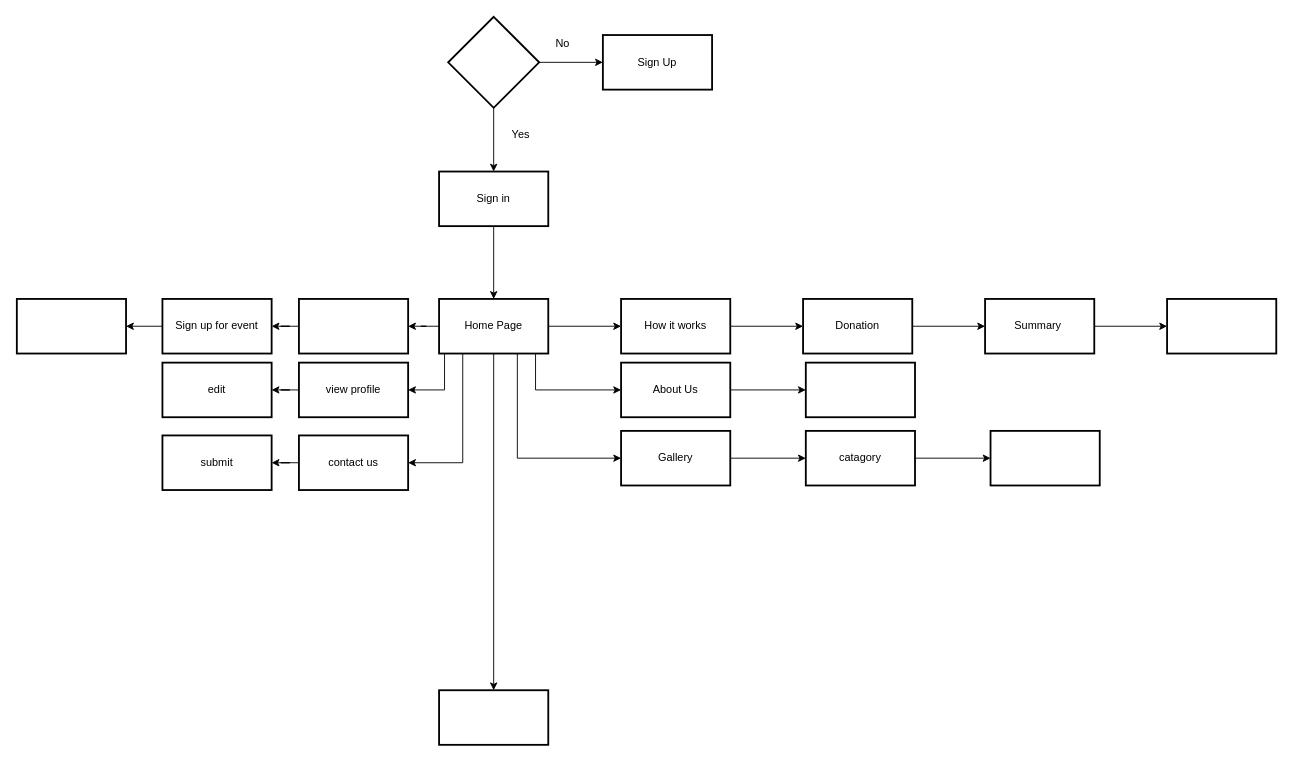
The diagram is 1292 pixels wide and 761 high, and some of its shapes have lost their labels. The box of each missing label's shape, as (x1, y1, x2, y2) in pixels:
Conclusion for event page: (15, 298, 126, 354)
Event: (298, 298, 409, 354)
Ex. picture by catagory: (989, 430, 1100, 486)
history of all funds: (1166, 298, 1277, 354)
log out: (438, 689, 549, 745)
Our mission: (804, 361, 915, 418)
User: (447, 15, 540, 108)
